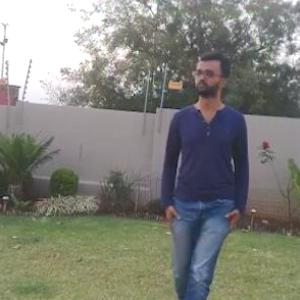follow: (156, 37, 254, 299)
